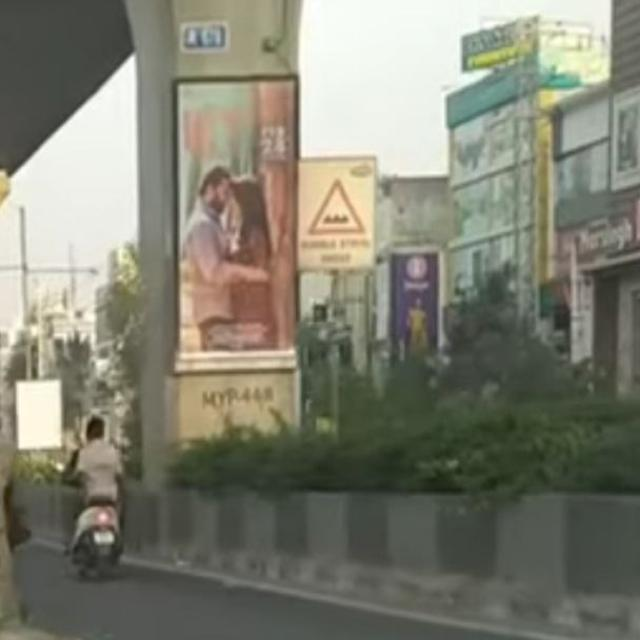Rumble_strip: (288, 157, 380, 280)
